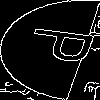P: (25, 25, 100, 67)
